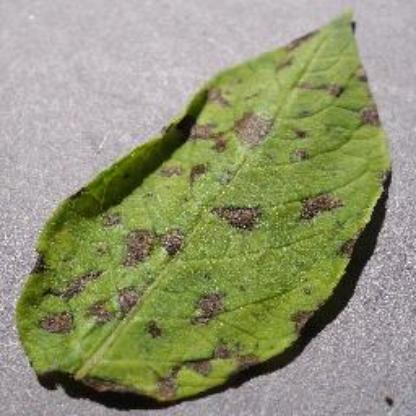Early-Blight: (12, 5, 416, 415)
